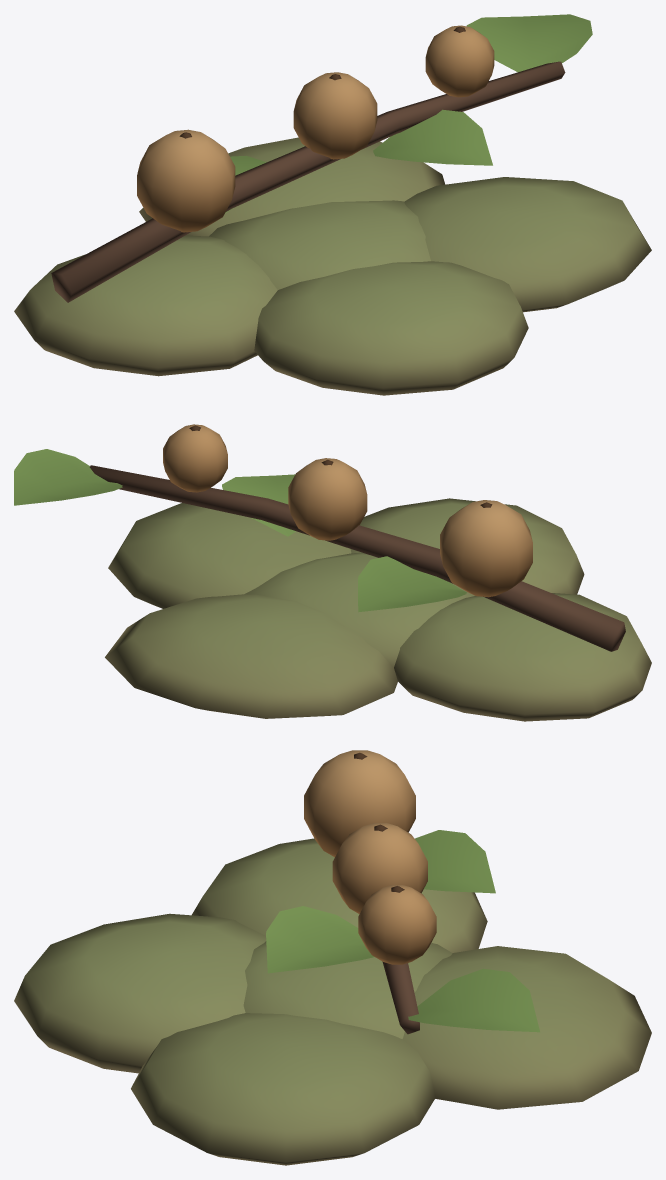
Rendered from ing_oak_gall.glb.
3 renders of one model, top to bottom at view 1: azimuth 30°, elevation 25°; view 2: azimuth 150°, elevation 25°; view 3: azimuth 270°, elevation 25°, orthographic. The views are drawn at different scales.
Visible parts, largest first — view 1: ing_oak_gall; view 2: ing_oak_gall; view 3: ing_oak_gall.
Part boxes in pixels (x1,y1,x2,y2): ing_oak_gall: (14, 14, 651, 395); ing_oak_gall: (14, 424, 651, 721); ing_oak_gall: (14, 750, 651, 1165).
Size of what is drawn, in the model's own units: 0.4332 by 0.1372 by 0.3555.
